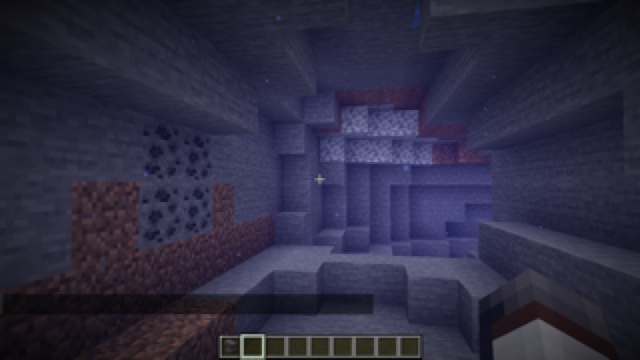coal: (139, 113, 211, 250)
